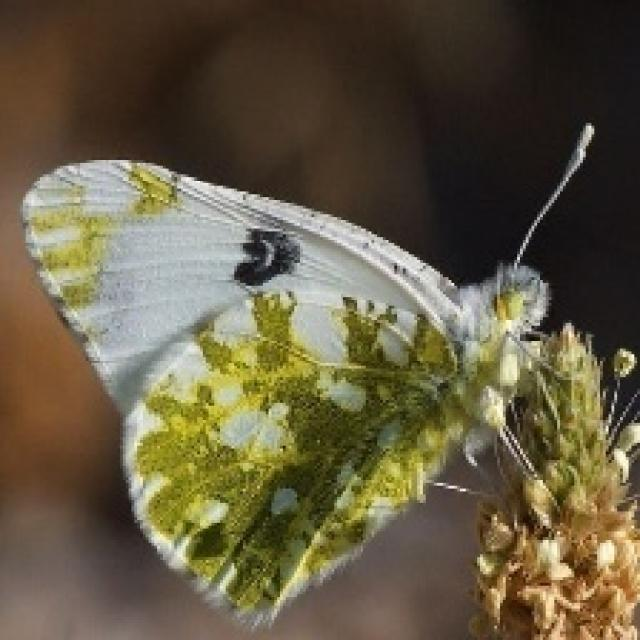butterfly: (17, 117, 606, 632)
